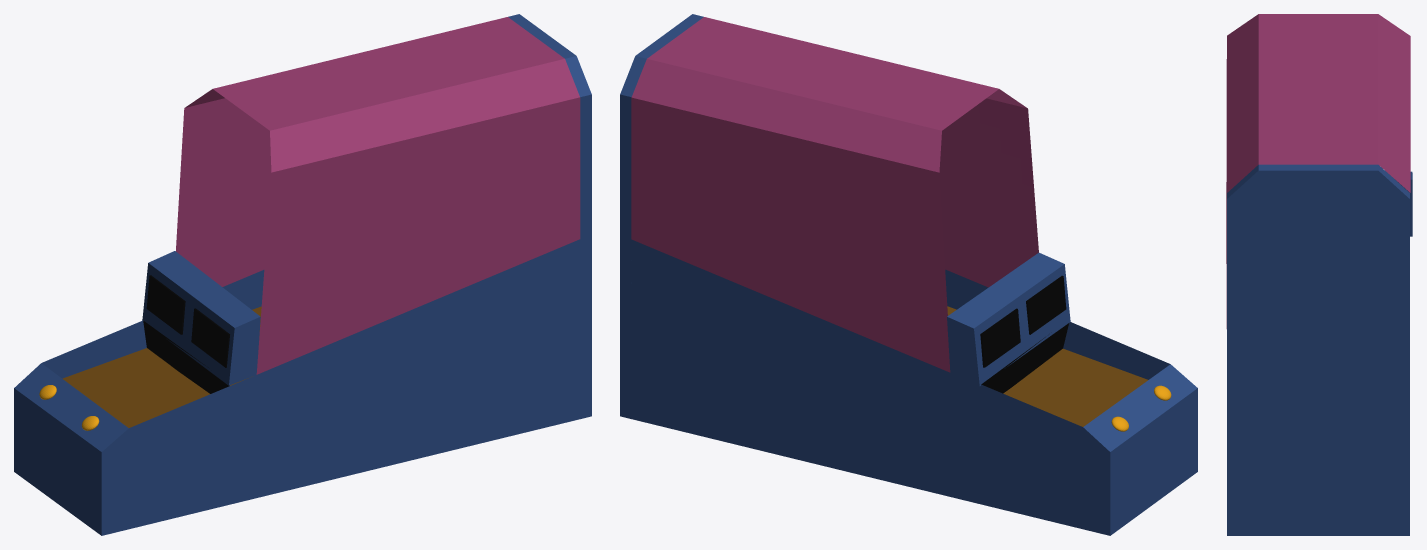
Rendered from machine+hoop.glb.
3 views of the same model, side by side, from view 1: azimuth 30°, elevation 25°; view 2: azimuth 150°, elevation 25°; view 3: azimuth 270°, elevation 25° (orthographic). The views are drawn at different scales.
Parts seen in each view (by area): view 1: Cage, Arcade, Ramp, Separate, Score, Timer; view 2: Cage, Arcade, Ramp, Separate, Score, Timer; view 3: Arcade, Cage.
Boxes of the visible parts, x1,y1,x2,y2 form: Cage: (176,17,580,374); Arcade: (14,14,591,535); Ramp: (62,306,261,427); Separate: (143,320,229,393); Score: (146,275,185,334); Timer: (191,308,229,367); Cage: (631,17,1038,372); Arcade: (620,14,1197,535); Ramp: (947,306,1147,426); Separate: (981,323,1068,393); Score: (980,308,1020,367); Timer: (1026,275,1066,334); Arcade: (1227,164,1412,535); Cage: (1226,14,1410,328).
Bounding box in the file's own units: 6.46 × 4.4 × 2.03.
Materials: 11 (2 with a texture image).
